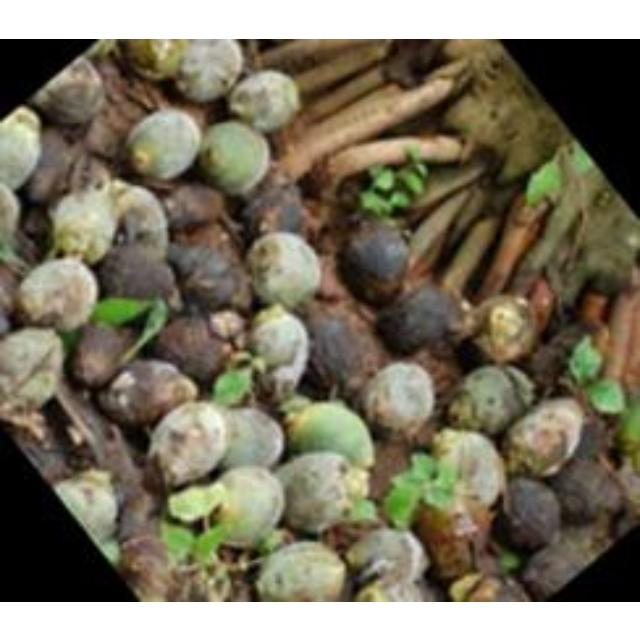damaged: (286, 62, 406, 130), (147, 400, 231, 490), (274, 452, 366, 534), (46, 378, 122, 476), (98, 357, 196, 431), (303, 307, 382, 395), (204, 466, 286, 546), (384, 448, 464, 530), (338, 216, 412, 304), (414, 492, 488, 580), (378, 284, 468, 356), (505, 397, 585, 478), (15, 255, 100, 331), (8, 402, 84, 486), (286, 400, 376, 470), (428, 430, 504, 512), (447, 364, 535, 434), (246, 229, 322, 307), (362, 361, 438, 439), (125, 107, 203, 181), (255, 539, 348, 601), (49, 180, 119, 262), (169, 242, 251, 312), (154, 312, 233, 384), (571, 212, 637, 298), (29, 54, 107, 126), (0, 326, 66, 410), (198, 120, 272, 194), (85, 416, 147, 504), (98, 240, 178, 308), (440, 209, 502, 295), (54, 470, 120, 550), (344, 525, 426, 589), (466, 294, 540, 364), (403, 160, 489, 220), (550, 454, 620, 526), (26, 127, 88, 206), (69, 320, 137, 390), (215, 406, 287, 472), (497, 476, 561, 550), (228, 69, 300, 133), (173, 38, 243, 102), (443, 83, 519, 141), (110, 182, 170, 255), (194, 540, 262, 602), (528, 324, 592, 388), (522, 539, 590, 599), (116, 534, 174, 602), (243, 180, 307, 238), (115, 296, 168, 366), (161, 181, 229, 235), (151, 80, 215, 136), (1, 108, 44, 190), (402, 346, 461, 404), (118, 38, 190, 82), (552, 204, 590, 286), (368, 438, 414, 502), (410, 51, 478, 94), (174, 216, 242, 258), (112, 64, 166, 116), (0, 397, 54, 447), (116, 487, 160, 547), (388, 133, 464, 165), (382, 41, 432, 87), (522, 154, 564, 208), (618, 286, 640, 388), (462, 570, 530, 602), (80, 110, 124, 158), (185, 522, 232, 564), (382, 478, 423, 526), (1, 182, 26, 258), (614, 394, 640, 466), (432, 426, 480, 464), (296, 157, 336, 200), (526, 276, 556, 332), (267, 362, 307, 403), (431, 40, 494, 66), (19, 204, 53, 252), (8, 220, 42, 268), (584, 376, 624, 414), (0, 262, 24, 322), (537, 262, 567, 308), (162, 521, 196, 559), (3, 104, 41, 136), (358, 187, 398, 217), (566, 140, 596, 178), (578, 290, 608, 326), (84, 39, 120, 63), (620, 228, 640, 256), (592, 188, 614, 208)
